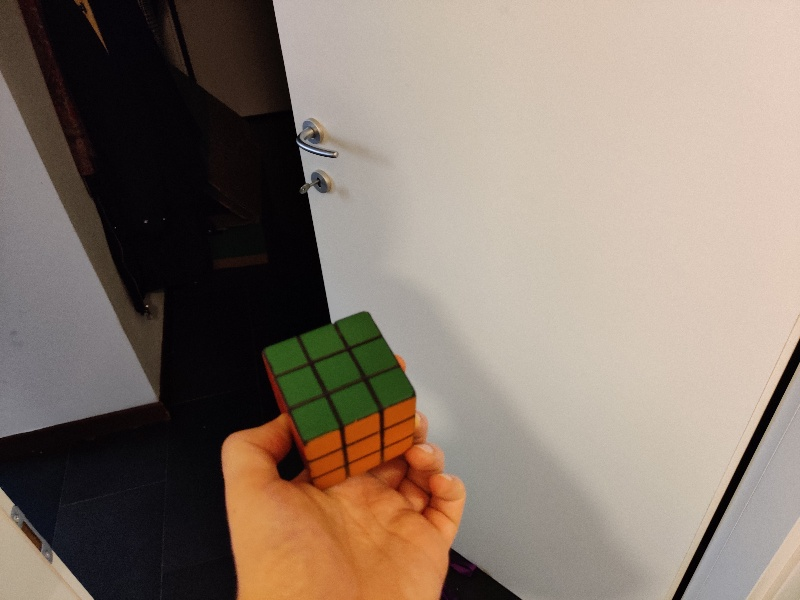rubik: (264, 313, 416, 490)
